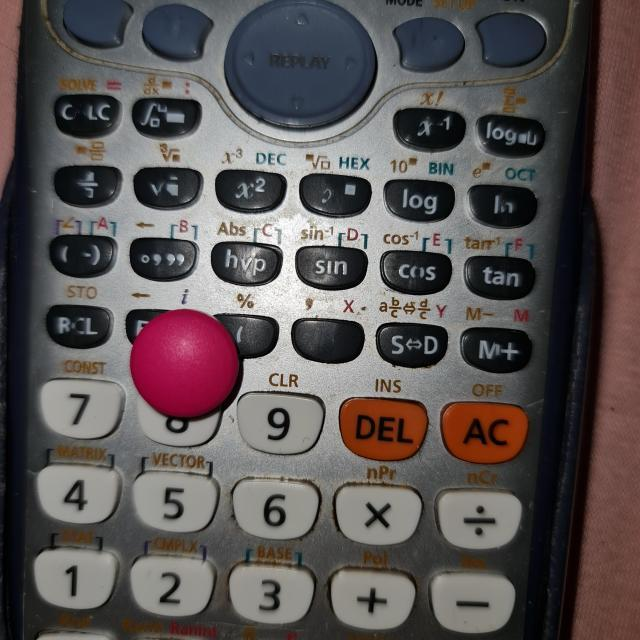pill: (128, 306, 239, 420)
